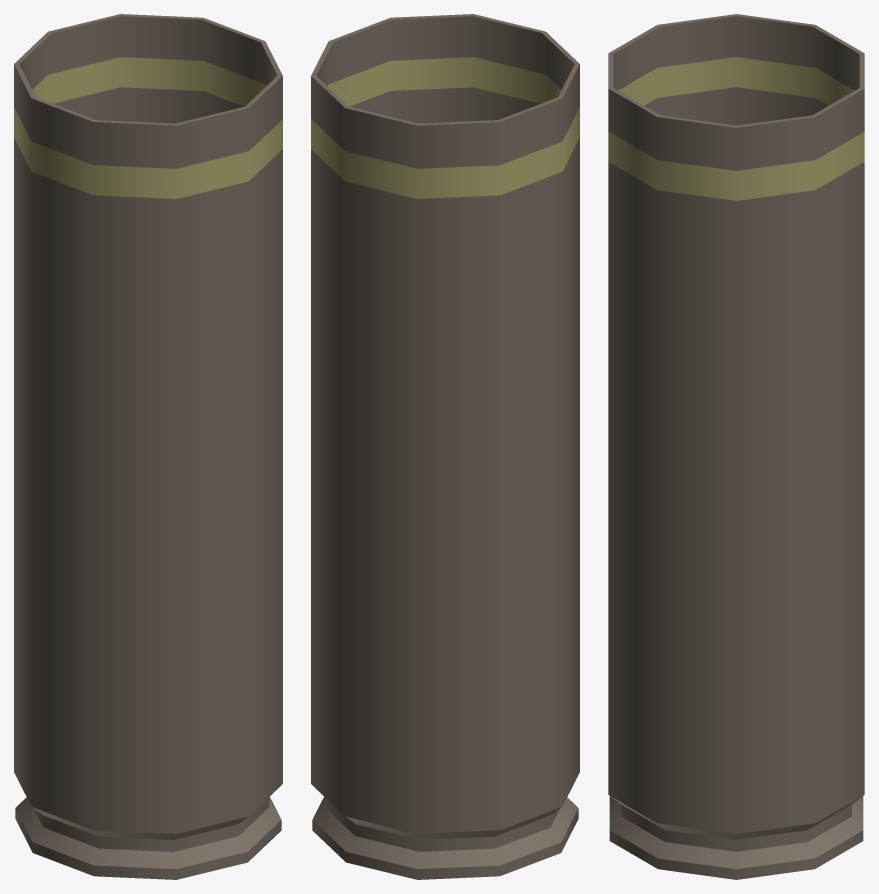
The model's file is Shell_2_T.fbx.
3 views of the same model, side by side, from view 1: azimuth 30°, elevation 25°; view 2: azimuth 150°, elevation 25°; view 3: azimuth 270°, elevation 25° (orthographic).
Parts seen in each view (by area): view 1: Shell_2; view 2: Shell_2; view 3: Shell_2.
Part boxes in pixels (x1,y1,x2,y2): Shell_2: [14, 14, 282, 879]; Shell_2: [311, 14, 579, 879]; Shell_2: [608, 14, 864, 879].
Size of the model in its own units: 9.78 by 30.15 by 9.31.
